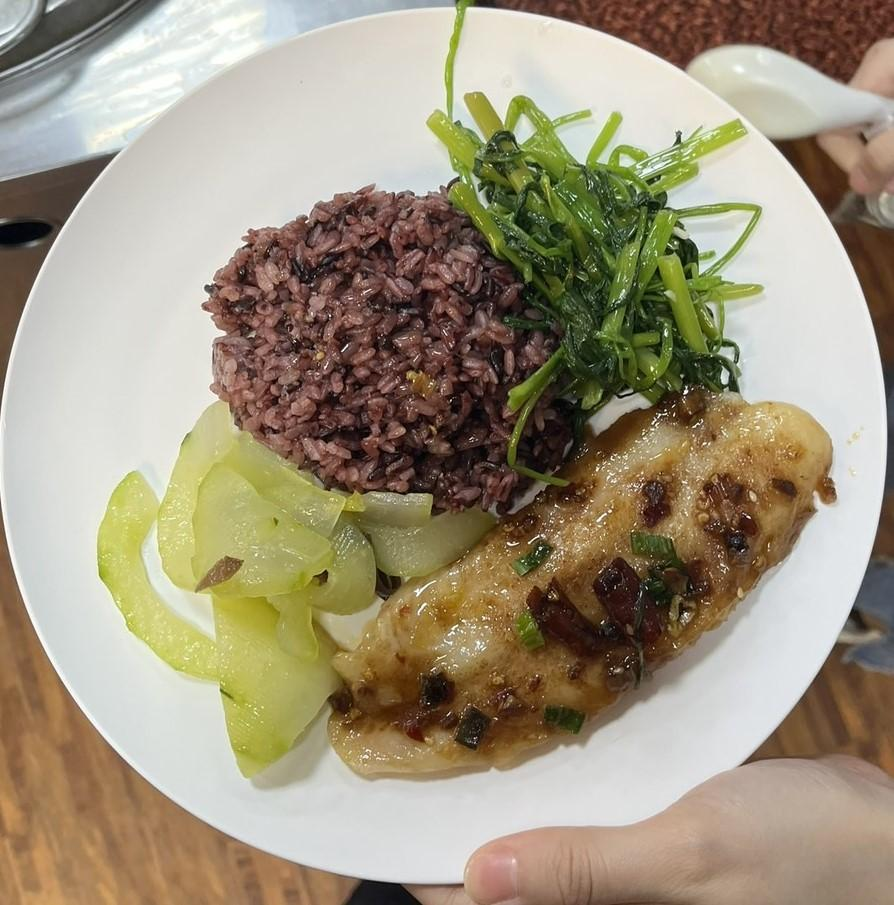big fried chicken leg: (0, 6, 894, 894)
braised fish: (200, 188, 577, 484)
braised fish fillet: (92, 390, 487, 798), (444, 94, 734, 404)
braised pork ribs: (334, 386, 840, 782)
